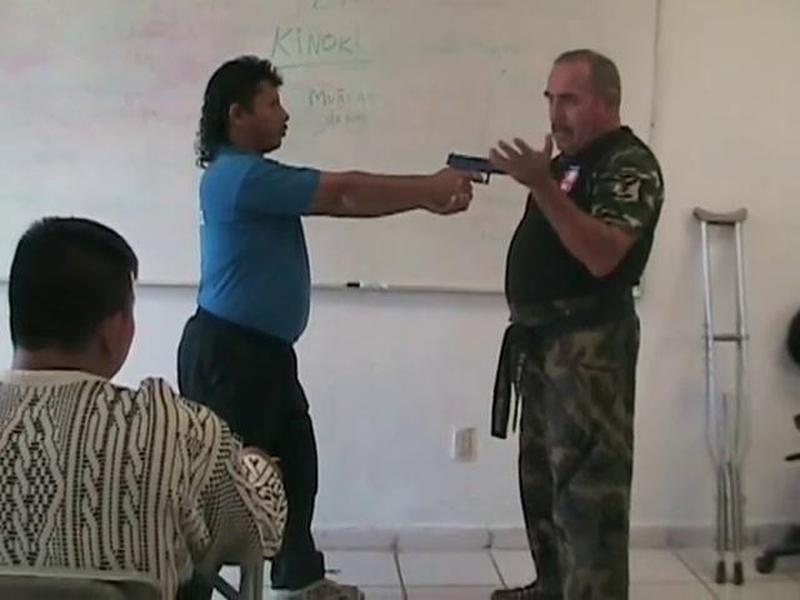Pistola: (439, 146, 519, 212)
